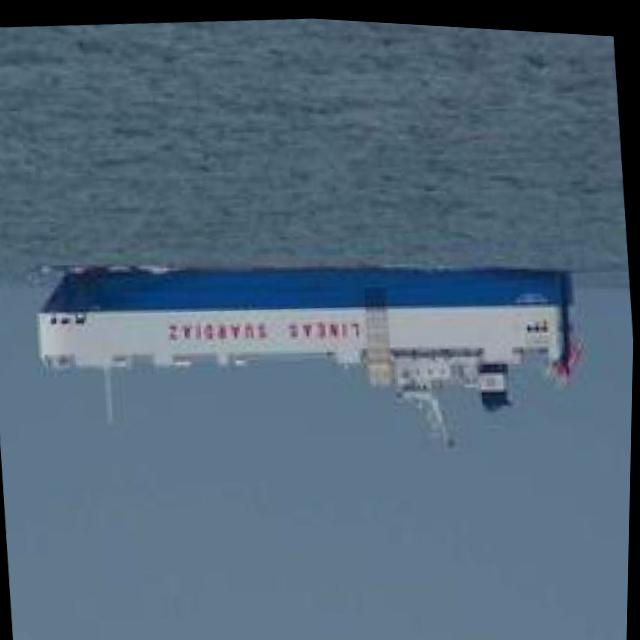ship2: (34, 258, 583, 445)
